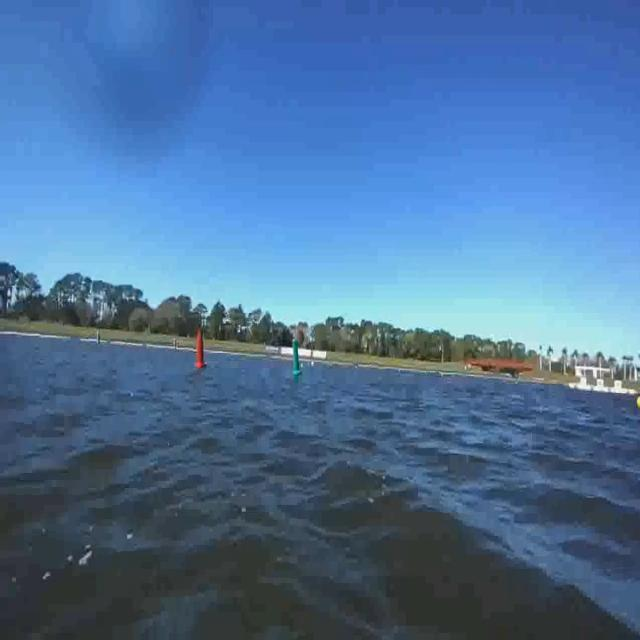green-column-buoy: (291, 339, 302, 376)
red-column-buoy: (195, 330, 208, 370)
